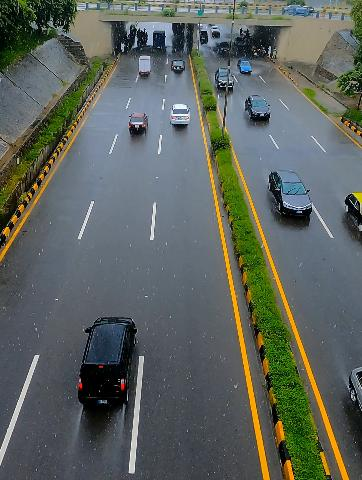car: (269, 168, 315, 222), (246, 92, 274, 128), (344, 179, 362, 235), (348, 355, 362, 416), (128, 111, 152, 138), (170, 102, 193, 128), (216, 67, 234, 93), (171, 57, 186, 74), (238, 59, 253, 76), (211, 25, 222, 37), (219, 42, 231, 52)
truck: (138, 52, 153, 80), (153, 30, 166, 50)
van: (76, 314, 142, 411)
